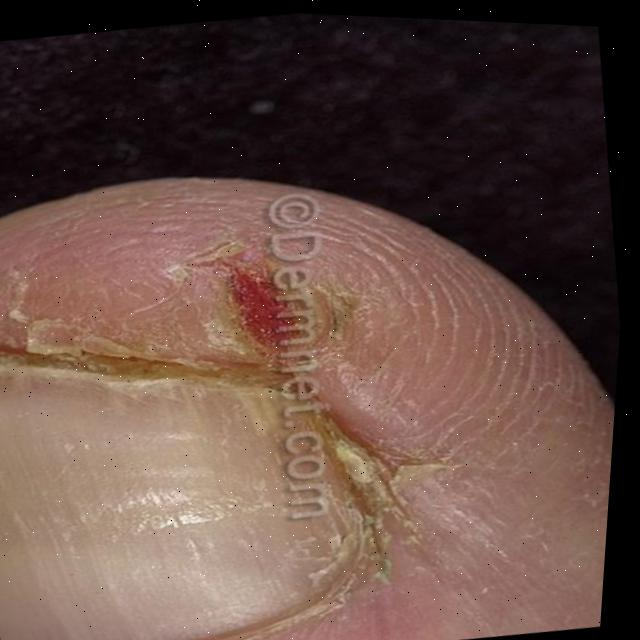Eczema: (0, 176, 492, 640)
